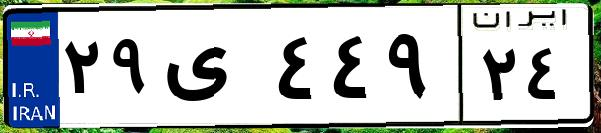2: (57, 26, 110, 100), (475, 38, 525, 113)
4: (270, 28, 330, 110), (330, 28, 385, 110), (525, 38, 570, 115)
9: (385, 28, 445, 110), (110, 28, 158, 98)
ی: (158, 20, 270, 120)
